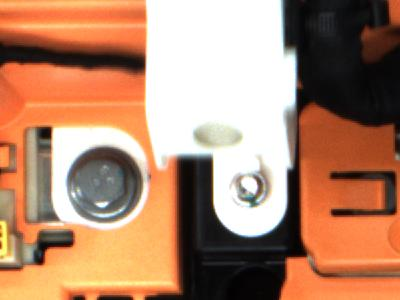nut_b: (62, 150, 148, 222)
screw_m: (227, 170, 277, 214)
